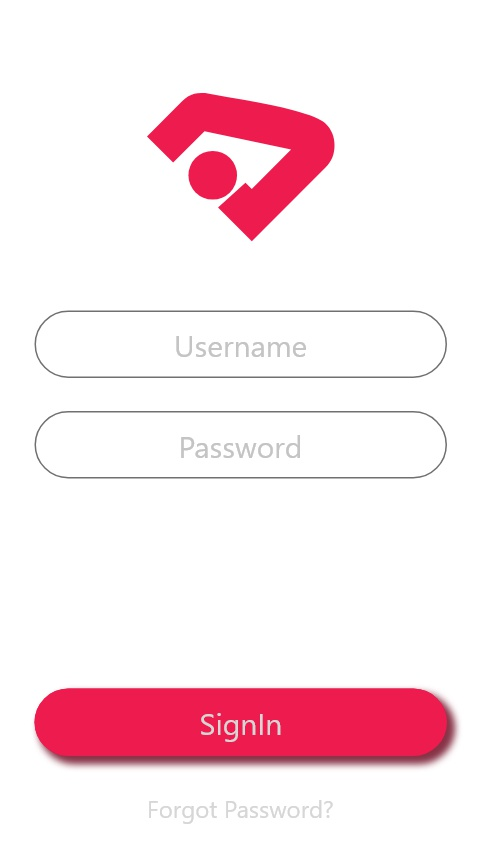EditText: (34, 311, 447, 379), (34, 412, 447, 480)
Image: (147, 93, 335, 243)
Text: (150, 799, 334, 824), (182, 435, 301, 459), (177, 337, 307, 358)
TextButton: (34, 688, 448, 757)
